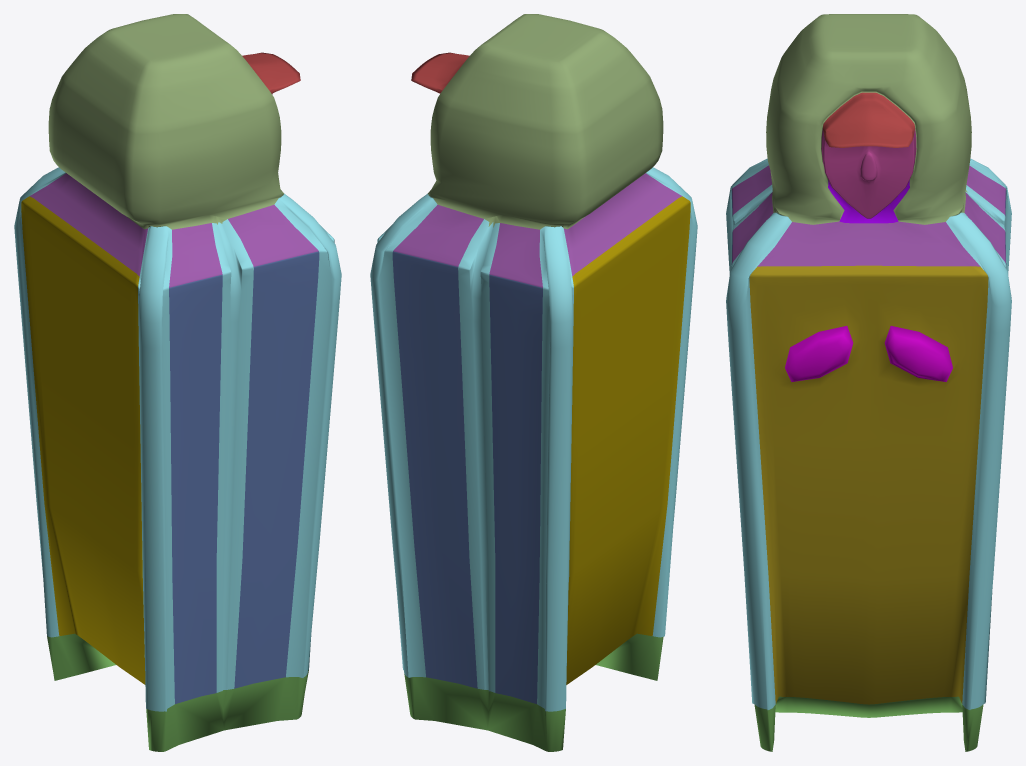
Rendered from tomb.fbx.
The picture shows the model from 3 angles, left to right: view 1: azimuth 30°, elevation 25°; view 2: azimuth 150°, elevation 25°; view 3: azimuth 270°, elevation 25°; orthographic projection. The views are drawn at different scales.
Visible parts, largest first — view 1: pasted__pCube50; view 2: pasted__pCube50; view 3: pasted__pCube50.
Boxes of the visible parts, <box> form: pasted__pCube50: <box>14,14,341,751</box>; pasted__pCube50: <box>370,14,697,751</box>; pasted__pCube50: <box>726,14,1011,751</box>.
Bounding box in the file's own units: 3.14 × 9.56 × 3.64.
